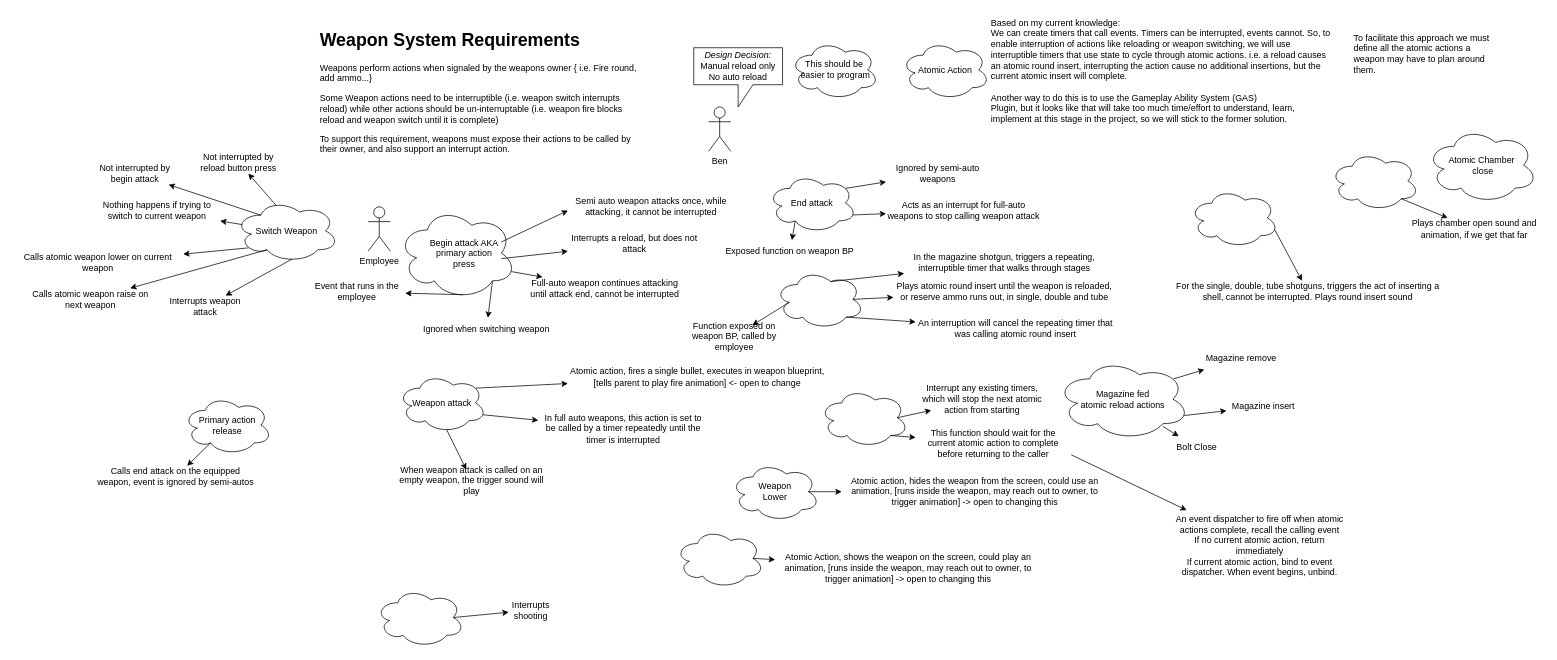
Image size: 1557x660. Some labels were removed from this diagram. Here are the shapes that lost their labels. From the top down, the centre of each, then its label:
the point at 1374,181: Atomic chamber open
the point at 1233,218: Atomic Round insert
the point at 819,299: Start reload
the point at 863,417: Interrupt action
the point at 719,558: Weapon Raise
the point at 419,617: Sprinting
